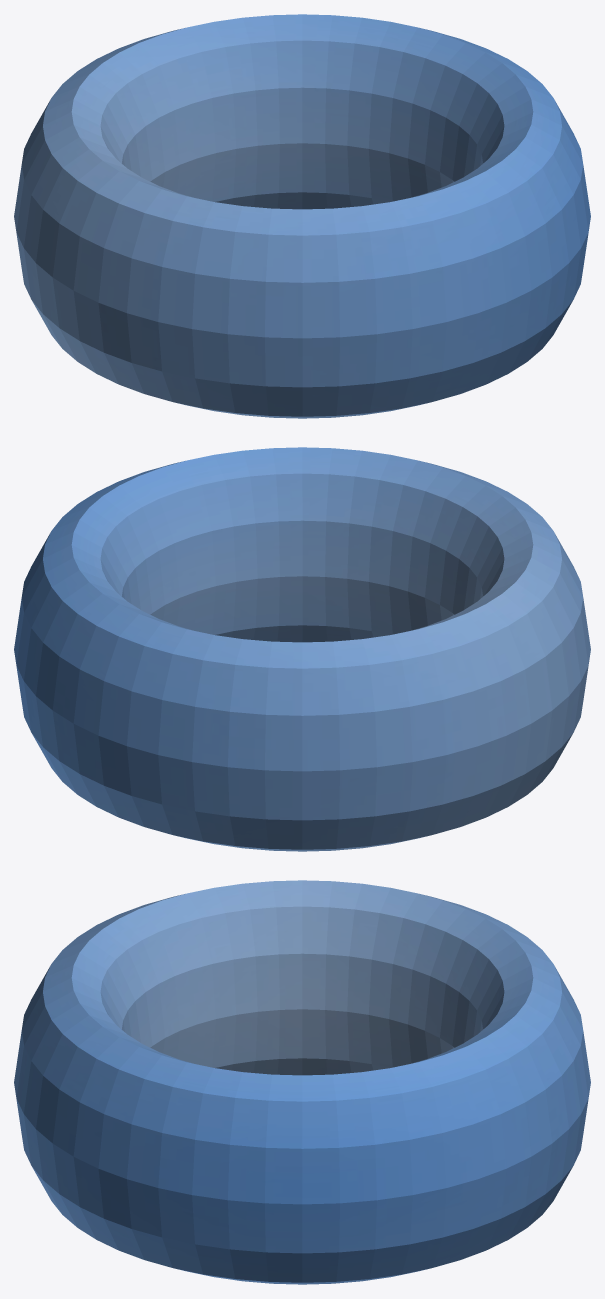
The model's file is TorP.obj.
3 renders of one model, top to bottom at view 1: azimuth 30°, elevation 25°; view 2: azimuth 150°, elevation 25°; view 3: azimuth 270°, elevation 25°, orthographic.
Visible parts, largest first — view 1: Torus.002; view 2: Torus.002; view 3: Torus.002.
Boxes of the visible parts, bbox=[...] form: Torus.002: bbox=[14, 14, 590, 418]; Torus.002: bbox=[14, 447, 590, 851]; Torus.002: bbox=[14, 880, 590, 1284].
Size of the model in its own units: 4 by 1.6 by 4.
1 material, 1 textured.
